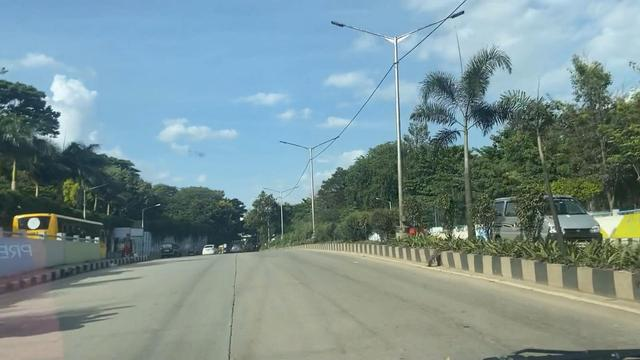RoadDamages: (196, 303, 254, 356), (216, 257, 250, 299)
